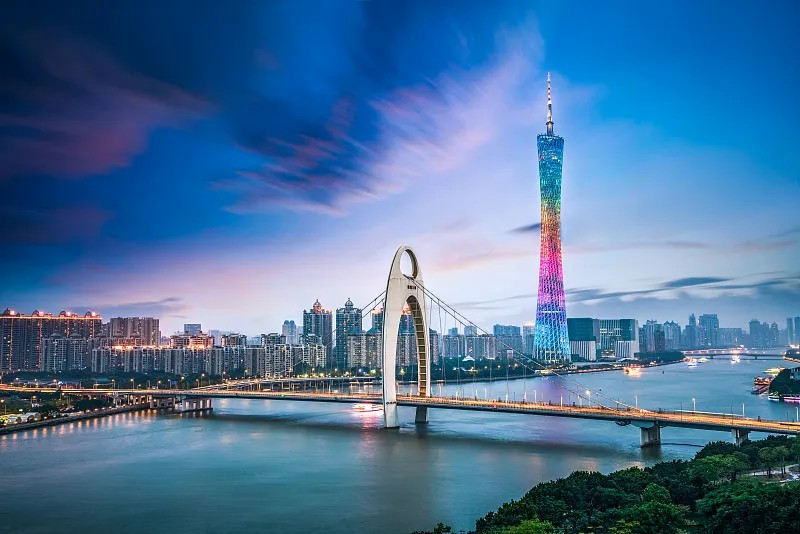Canton: (530, 70, 573, 365)
